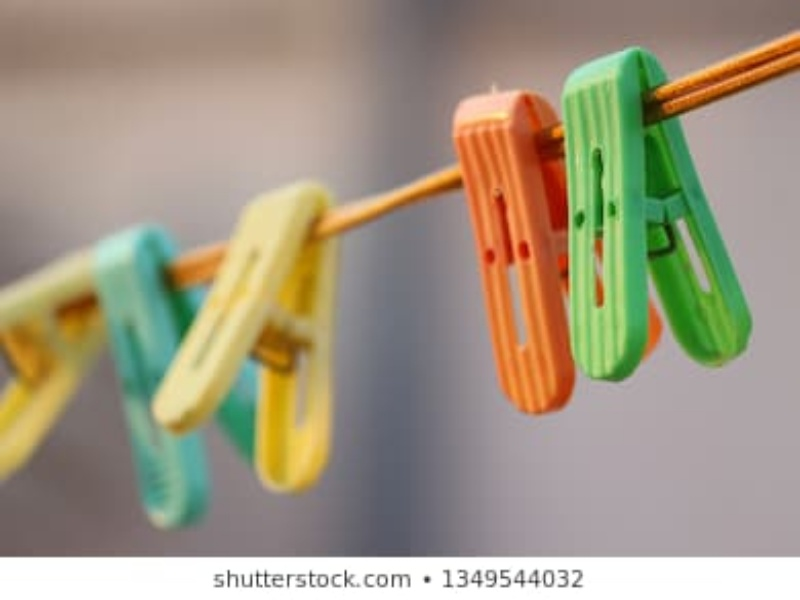plastic-peg: (559, 47, 753, 384), (155, 180, 340, 491), (448, 82, 618, 412), (86, 218, 247, 527)
